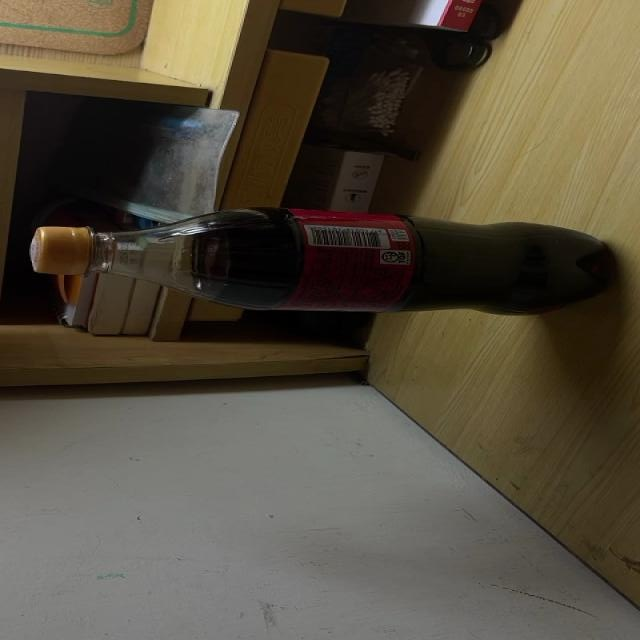Coca-Cola: (30, 208, 610, 314)
